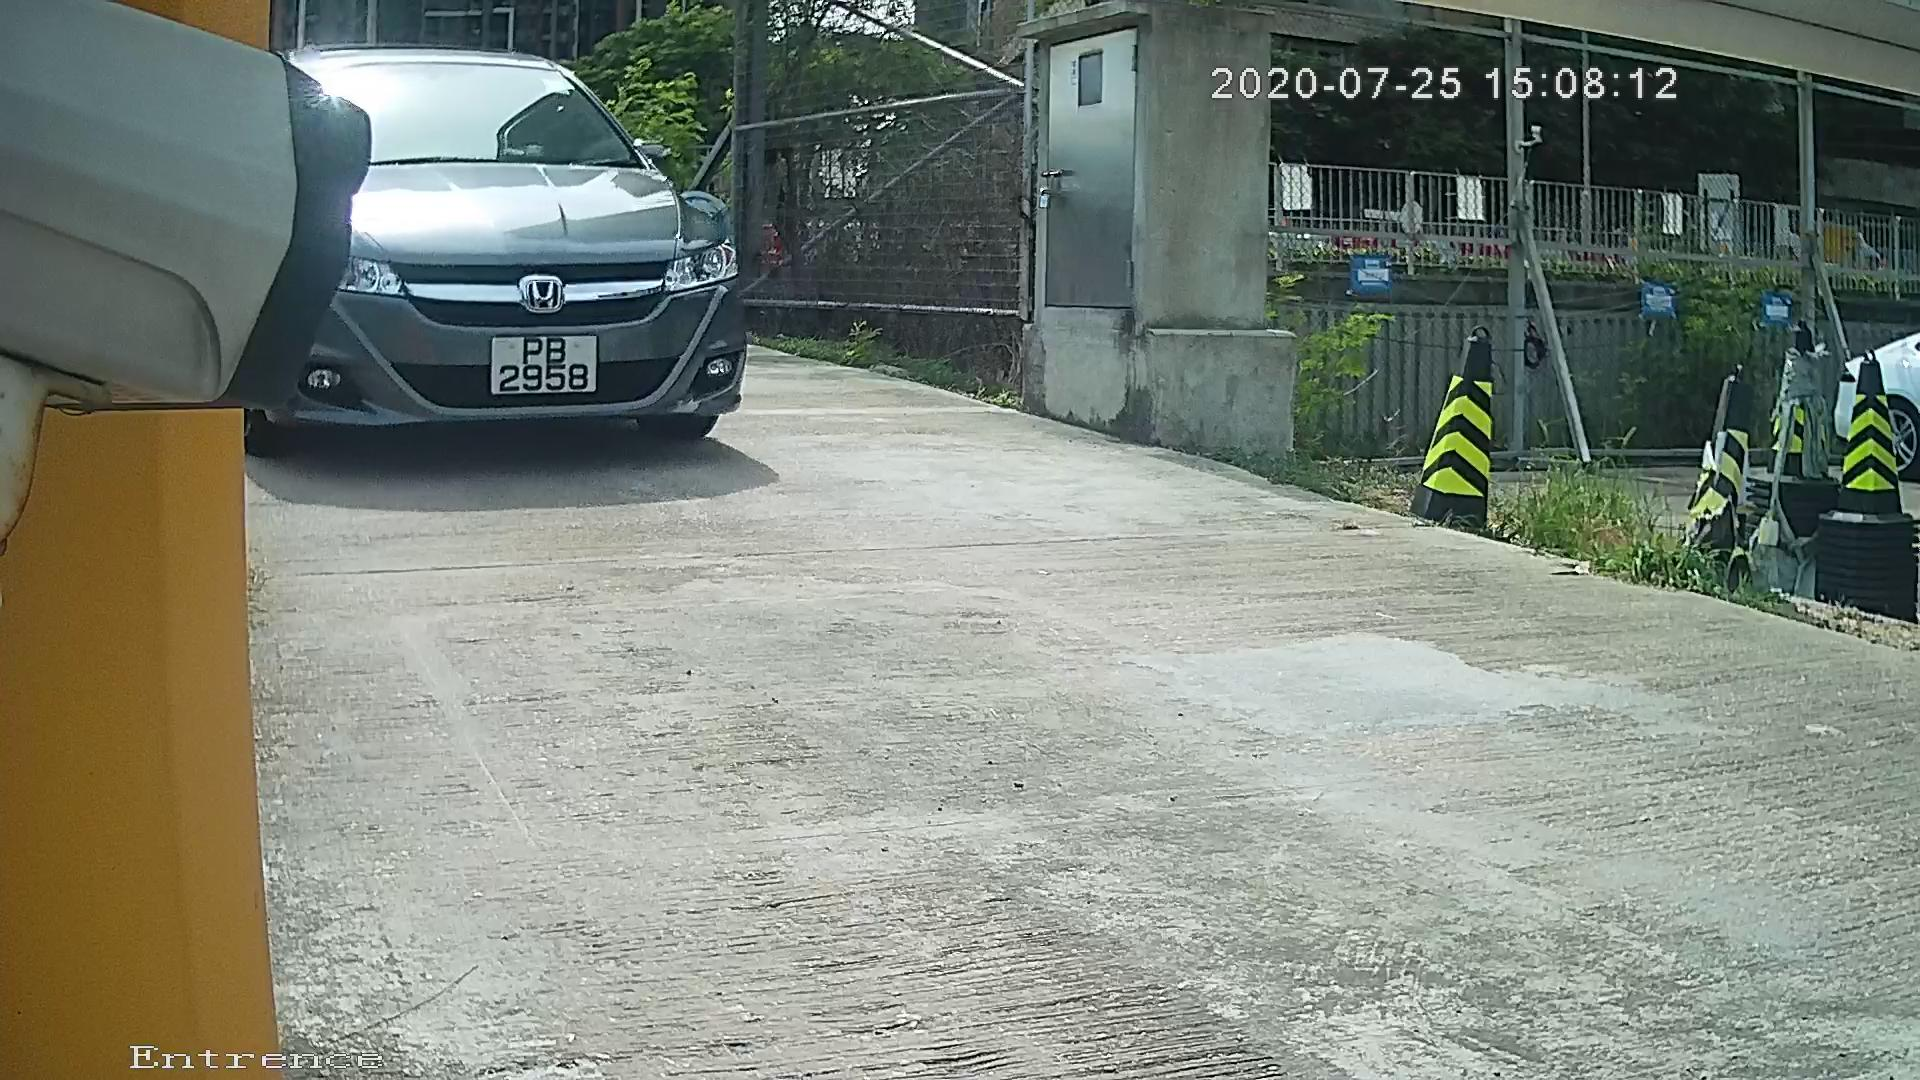Car: (155, 44, 883, 473)
License Plate: (475, 322, 624, 411)
